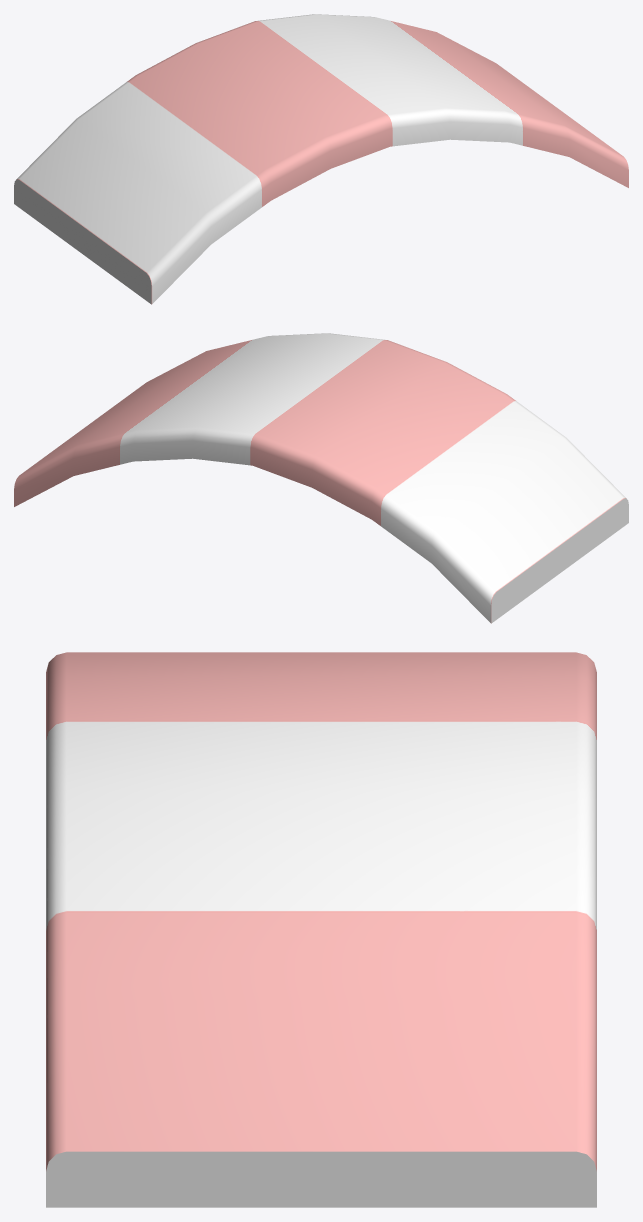
File: RoadUp_red.fbx
The picture shows the model from 3 angles, top to bottom: view 1: azimuth 30°, elevation 25°; view 2: azimuth 150°, elevation 25°; view 3: azimuth 270°, elevation 25°; orthographic projection. The views are drawn at different scales.
Visible parts, largest first — view 1: RoadUp_red; view 2: RoadUp_red; view 3: RoadUp_red.
Boxes of the visible parts, bbox=[...] form: RoadUp_red: bbox=[14, 14, 628, 304]; RoadUp_red: bbox=[14, 333, 628, 623]; RoadUp_red: bbox=[46, 652, 596, 1207].
Size of the model in its own units: 600 by 154 by 300.
1 material, 1 textured.
